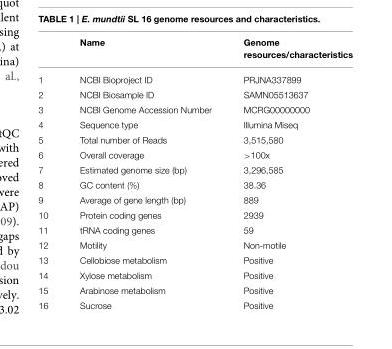table: (37, 37, 352, 309)
table column: (63, 37, 226, 309), (226, 37, 352, 309), (37, 37, 63, 309)
table column header: (37, 37, 352, 66)
table row: (37, 37, 352, 66), (37, 66, 352, 87), (37, 87, 352, 102), (37, 102, 352, 117), (37, 117, 352, 132), (37, 132, 352, 147), (37, 147, 352, 162), (37, 162, 352, 177), (37, 177, 352, 192), (37, 192, 352, 207), (37, 207, 352, 222), (37, 222, 352, 237), (37, 237, 352, 252), (37, 252, 352, 267), (37, 267, 352, 282), (37, 282, 352, 297), (37, 297, 352, 309)
